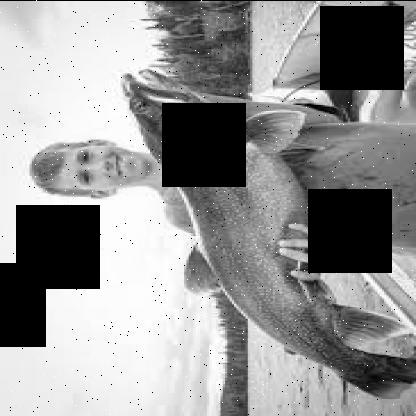fish: (116, 70, 414, 401)
